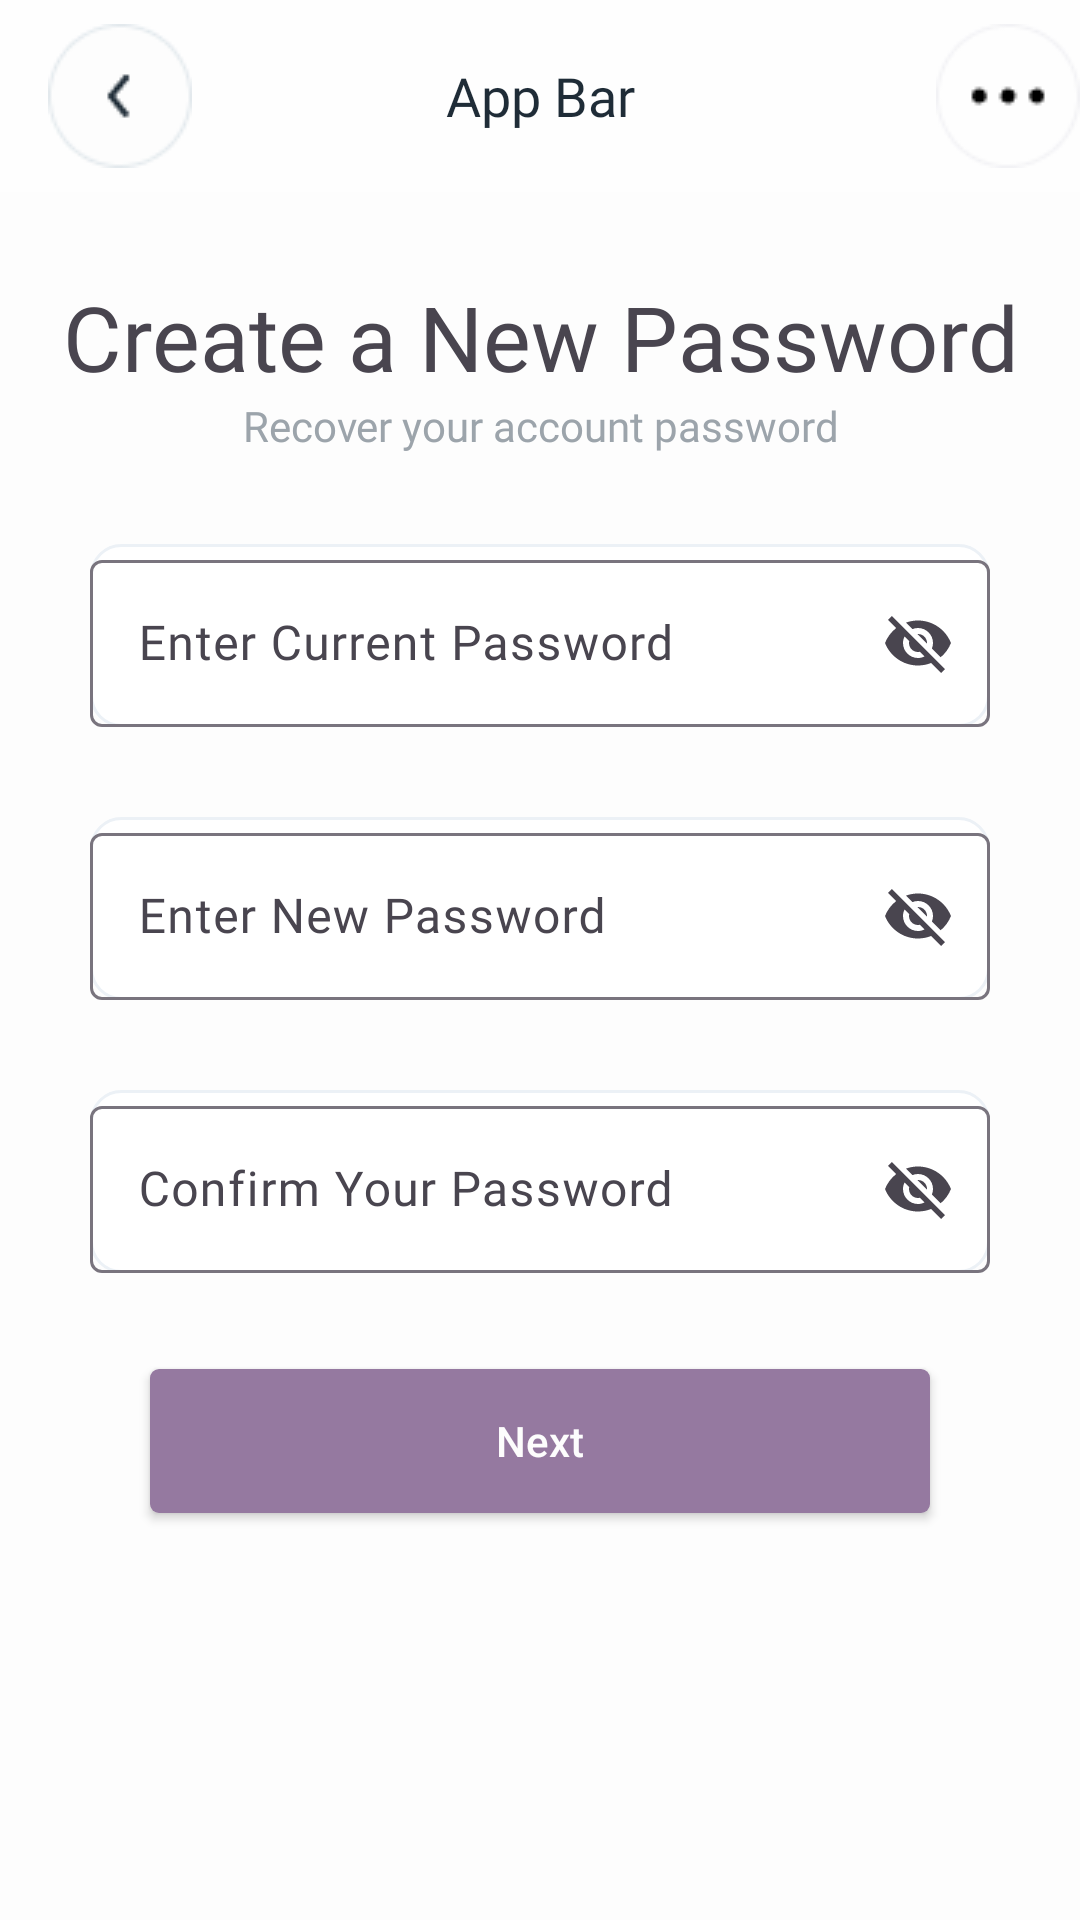

Point at icon controls on the screen. Image size 1080 × 1920, points as [x,y].
arrow back: [120,96]
three dot: [1008,96]
